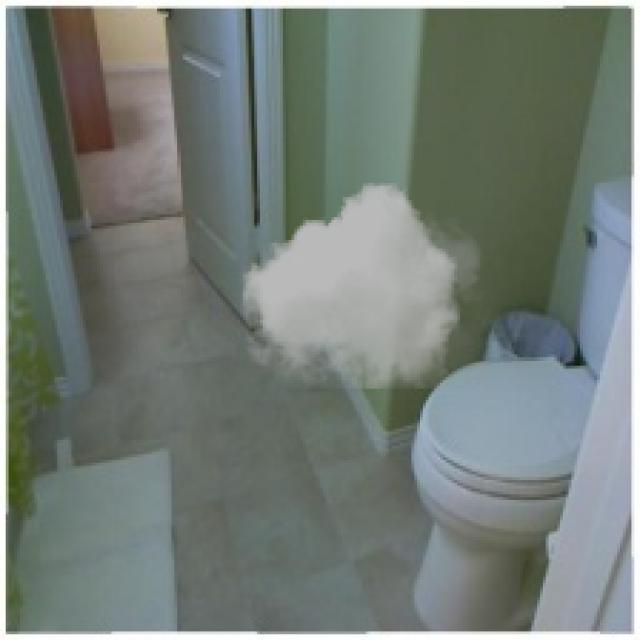smoke: (237, 183, 489, 388)
